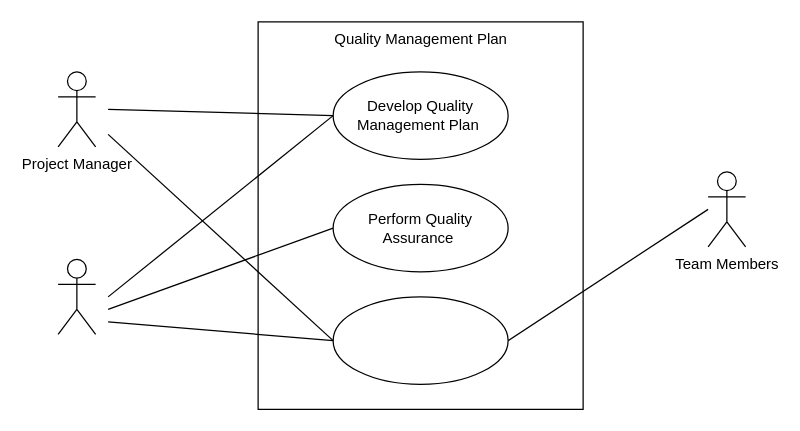
Some shapes in this 800 by 431 pixel diagram are drawn without their labels. Here are the shapes that lost their labels. From the top down, the centre of each, then its label:
the point at 76,296: Quality Analyst
the point at 420,340: Control Quality
